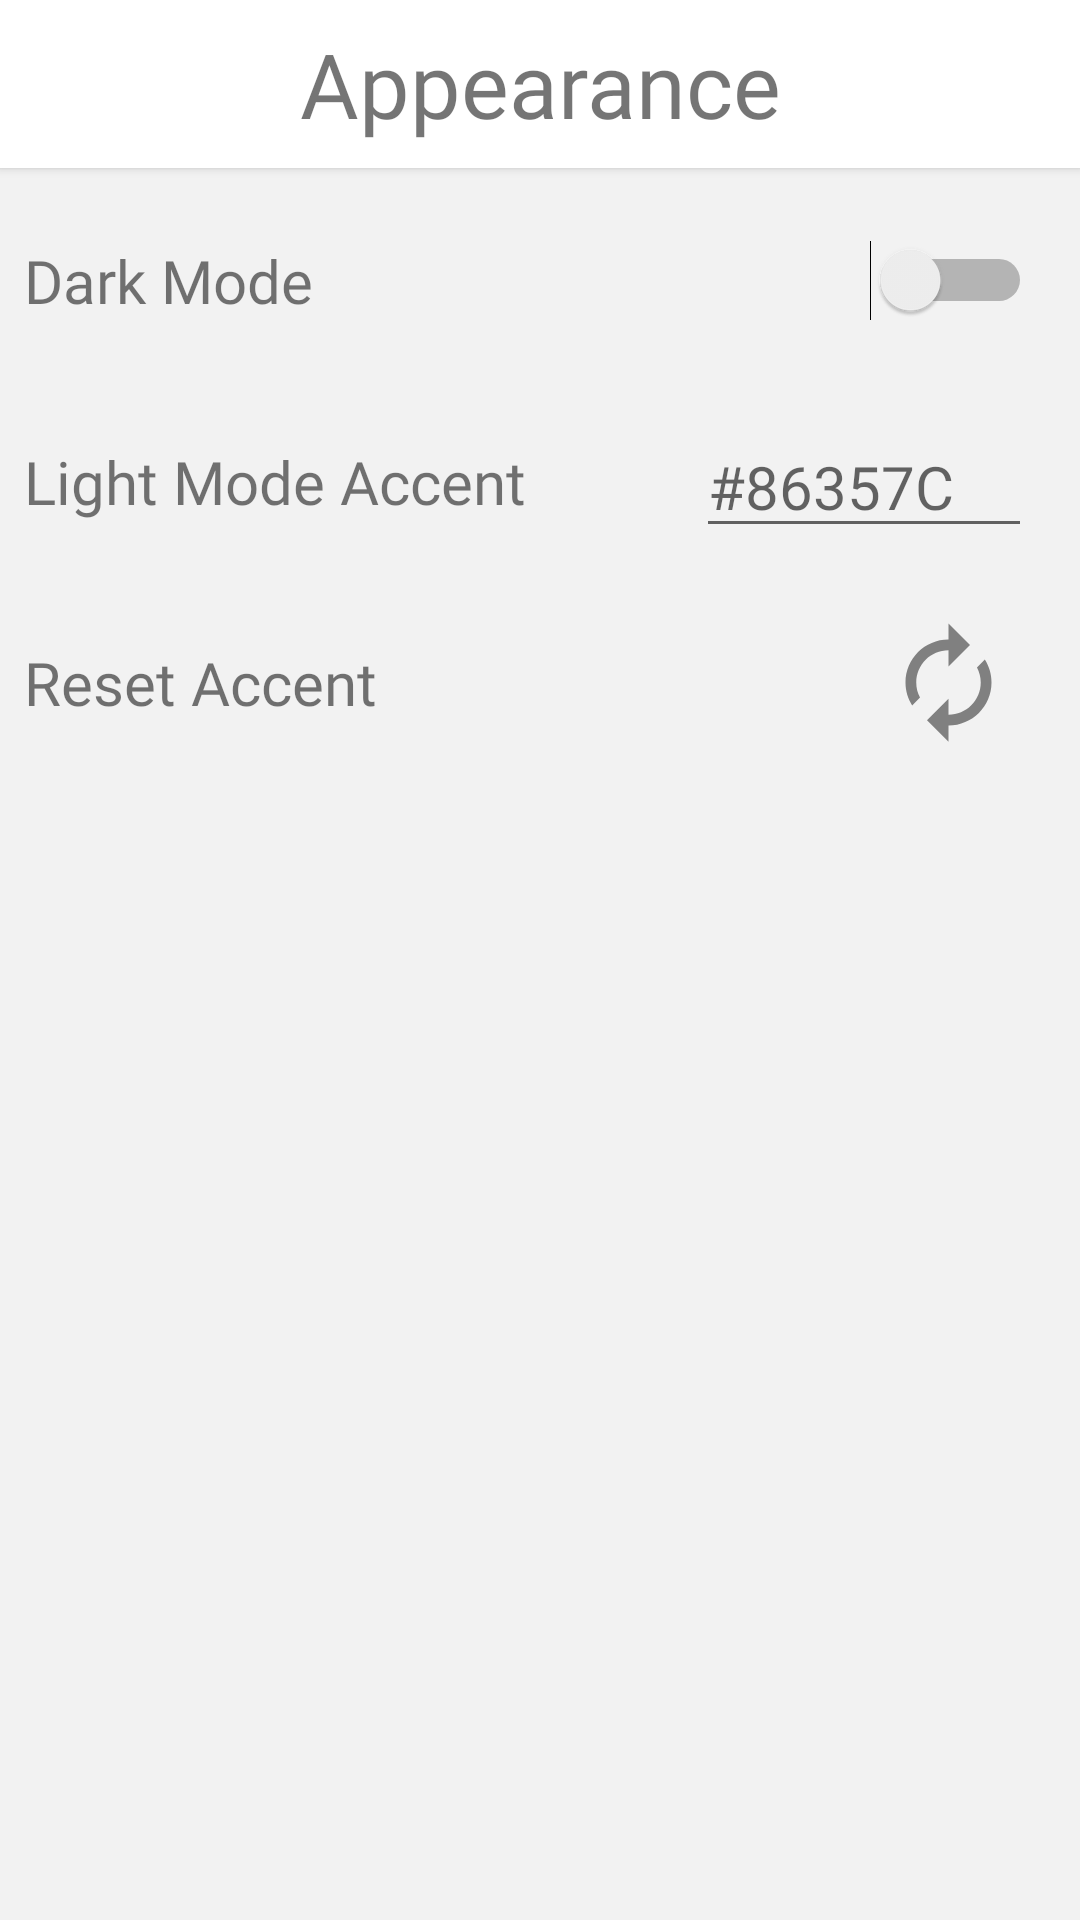

Icon click points for this 1080 x 1920 phone screenshot, format point (x, y):
reset: point (948, 683)
